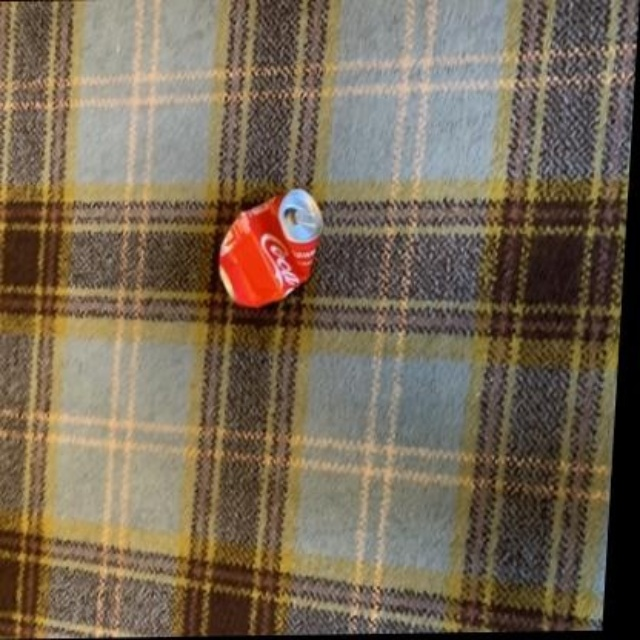trash: (220, 189, 322, 306)
